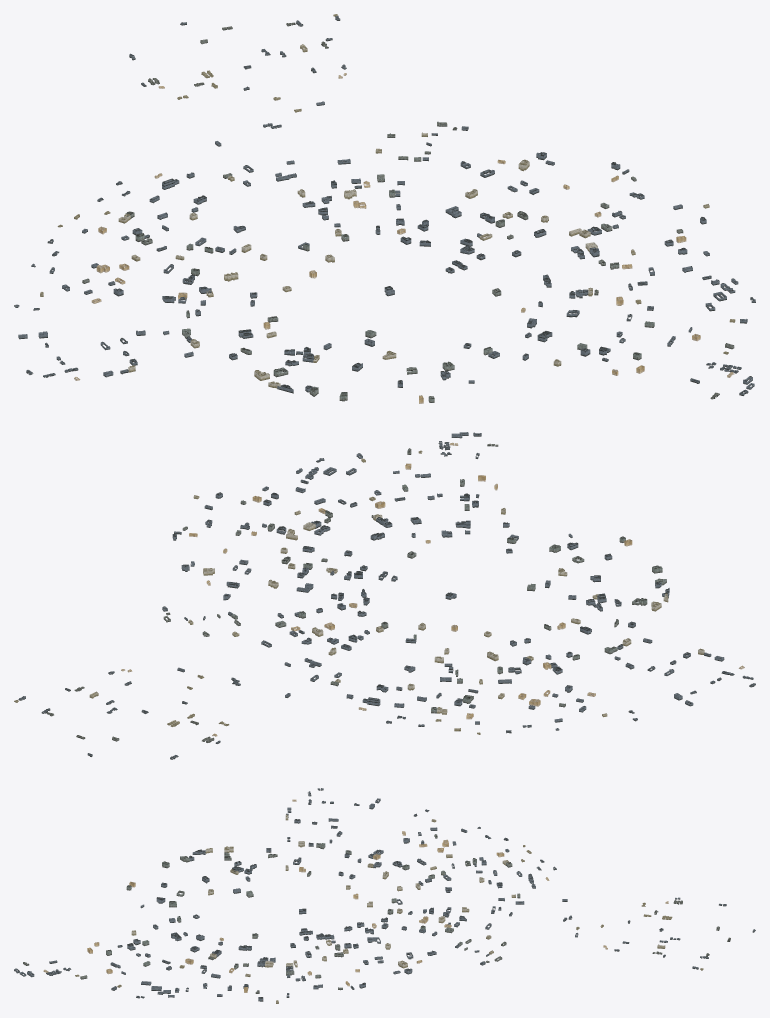
Rendered from city_3d_model_5.glb.
The picture shows the model from 3 angles, top to bottom: view 1: azimuth 30°, elevation 25°; view 2: azimuth 150°, elevation 25°; view 3: azimuth 270°, elevation 25°; orthographic projection. The views are drawn at different scales.
Parts seen in each view (by area): view 1: Object_80, Object_270, Object_150, Object_238; view 2: Object_80, Object_270, Object_150, Object_238; view 3: Object_80, Object_270, Object_150, Object_238.
Boxes of the visible parts, bbox=[...] form: Object_80: bbox=[14, 16, 755, 395]; Object_270: bbox=[82, 22, 734, 402]; Object_150: bbox=[40, 14, 735, 388]; Object_238: bbox=[74, 73, 734, 403]; Object_80: bbox=[18, 432, 755, 759]; Object_270: bbox=[46, 443, 666, 742]; Object_150: bbox=[14, 450, 704, 734]; Object_238: bbox=[121, 442, 744, 736]; Object_80: bbox=[14, 788, 755, 1001]; Object_270: bbox=[23, 834, 730, 993]; Object_150: bbox=[75, 814, 703, 1003]; Object_238: bbox=[43, 799, 668, 992].
Bounding box in the file's own units: 735 × 43.64 × 974.
Materials: 4 (4 with a texture image).
